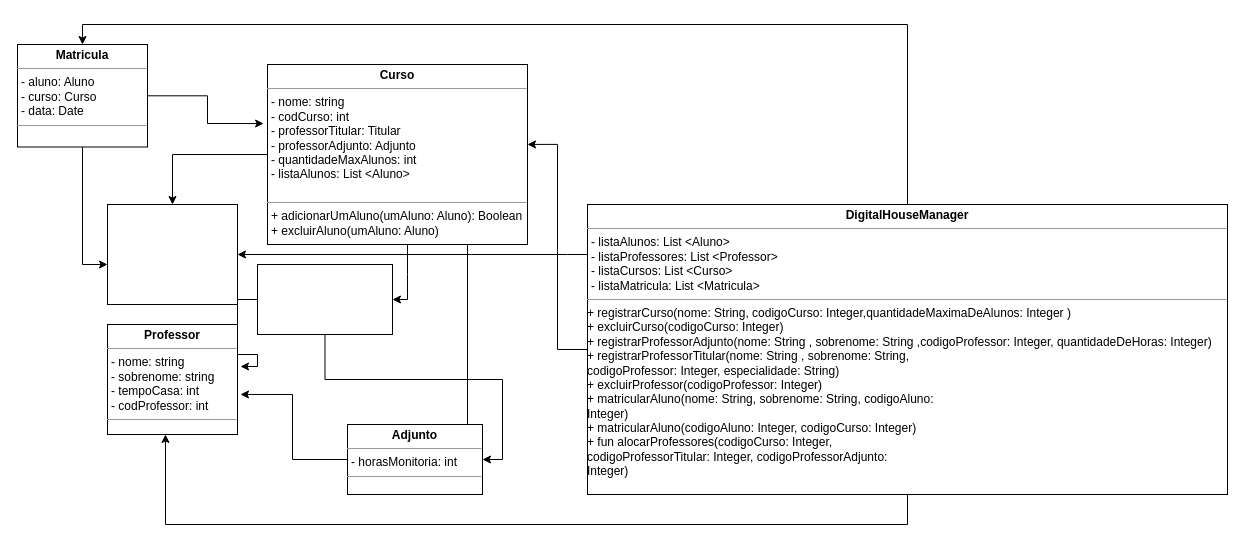
Image size: 1245x550. Some labels were removed from this diagram. Each missing label, with the centre of its shape:
"Aluno - nome: string - sobrenome: string - codAluno: int" belongs at (172,254).
"Titular - especialidade: string" belongs at (324,299).
